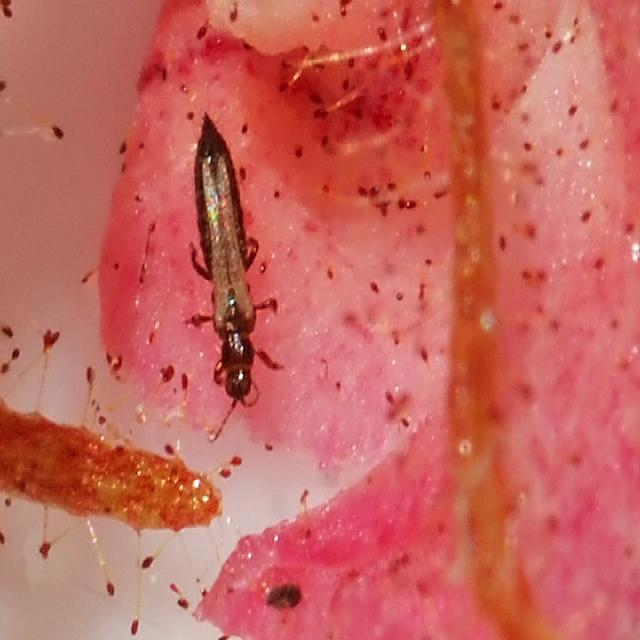Thrip-Adult-: (170, 66, 286, 420)
